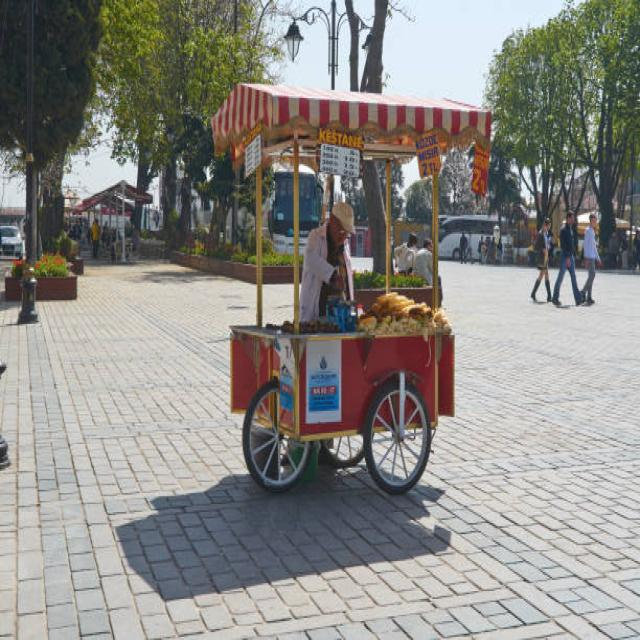Emperan: (200, 69, 497, 516)
